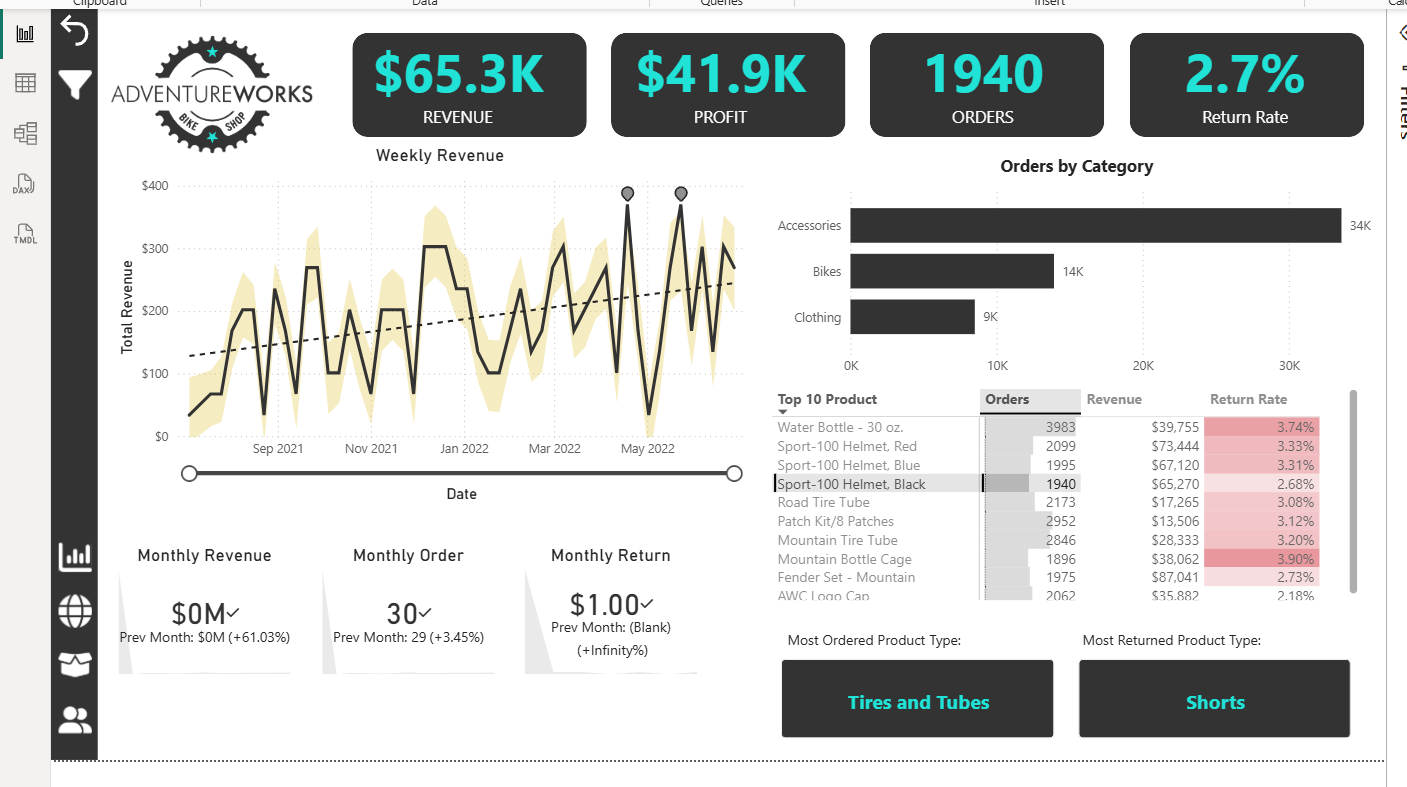

What the dashboard file says about the page in this screenshot:
{"tool":"powerbi","page":{"name":"Exec Dashboard","canvas":[1280,720],"ordinal":0},"visuals":[{"type":"card","fields":{"Values":["Measure Table.Total Revenue"]},"box":[255,0,270,138.8],"z":0,"group":"g2"},{"type":"image","title":"Logo","box":[20,22.5,268.8,118.8],"z":0},{"type":"shape","box":[288.8,22.5,225,100],"z":0,"group":"g1"},{"type":"group","id":"g1","title":"KPI Backgrounds","box":[288.8,22.5,970,100],"z":0,"group":"g3"},{"type":"shape","title":"Left Nav Background","box":[0,0,45,720],"z":1000},{"type":"group","id":"g2","title":"KPI Cards","box":[255,0,1025,138.8],"z":1000,"group":"g3"},{"type":"card","fields":{"Values":["Measure Table.Total Profit"]},"box":[506.7,0,270,138.8],"z":1000,"group":"g2"},{"type":"shape","box":[537.1,22.5,225,100],"z":1000,"group":"g1"},{"type":"group","id":"g3","title":"KPI","box":[255,0,1025,138.8],"z":2000},{"type":"card","fields":{"Values":["Measure Table.Total Orders"]},"box":[758.3,0,270,138.8],"z":2000,"group":"g2"},{"type":"shape","box":[785.5,22.5,225,100],"z":2000,"group":"g1"},{"type":"card","fields":{"Values":["Measure Table.Return Rate"]},"box":[1010,0,270,138.8],"z":3000,"group":"g2"},{"type":"shape","box":[1033.8,22.5,225,100],"z":3000,"group":"g1"},{"type":"lineChart","title":"Weekly Revenue","fields":{"Category":["Calendar Lookup.Date"],"Y":["Measure Table.Total Revenue"]},"box":[60,129.1,626.4,347.3],"z":3000},{"type":"kpi","title":"Monthly Revenue","fields":{"Goal":["Measure Table.Previous Month Profit"],"Indicator":["Measure Table.Total Revenue"],"TrendLine":["Calendar Lookup.Start of Month"]},"box":[60,512.5,175,130],"z":4000},{"type":"kpi","title":"Monthly Order","fields":{"Goal":["Measure Table.Previous Month Orders"],"Indicator":["Measure Table.Total Orders"],"TrendLine":["Calendar Lookup.Start of Month"]},"box":[255,512.5,175,130],"z":5000},{"type":"kpi","title":"Monthly Return","fields":{"Goal":["Measure Table.Previous Month Return"],"Indicator":["Measure Table.Total Returns"],"TrendLine":["Calendar Lookup.Start of Month"]},"box":[450,512.5,175,130],"z":6000},{"type":"clusteredBarChart","title":"Orders by Category","fields":{"Category":["Product Categories Lookup.CategoryName"],"Y":["Measure Table.Total Orders"]},"box":[686.2,138.8,593.8,221.2],"z":7000},{"type":"pivotTable","fields":{"Rows":["Product Lookup.ProductName"],"Values":["Measure Table.Total Orders","Measure Table.Total Revenue","Measure Table.Return Rate"]},"box":[720,360,513.6,211.8],"z":8000},{"type":"cardVisual","fields":{"Data":["Min(Product Subcategories Lookup.SubcategoryName)"]},"box":[687.5,611.2,286.2,100],"z":9000},{"type":"textbox","box":[701.2,591.2,232.5,38.8],"z":10000},{"type":"cardVisual","fields":{"Data":["Min(Product Subcategories Lookup.SubcategoryName)"]},"box":[973.8,611.2,285,100],"z":11000},{"type":"textbox","box":[983.8,591.2,232.5,38.8],"z":12000},{"type":"actionButton","box":[0,0,44.8,40.3],"z":13000},{"type":"actionButton","box":[0,506,46,40],"z":14000},{"type":"actionButton","box":[0,557.7,46,40],"z":15000},{"type":"actionButton","box":[0,609.3,46,40],"z":16000},{"type":"actionButton","box":[0,661,46,40],"z":17000},{"type":"actionButton","box":[0,53,46,40],"z":18000}]}

Visuals, with their boxes on the page's 1280x720 design canvas (x1, y1, x2, y2). These are canvas units, not pixel positions in the 1407x787 screenshot, which may show the page scaled, cropped or inside an application window:
card - Measure Table.Total Revenue: crop(255, 0, 525, 139)
"Logo" image: crop(20, 22, 289, 141)
shape: crop(289, 22, 514, 122)
"KPI Backgrounds" group: crop(289, 22, 1259, 122)
"Left Nav Background" shape: crop(0, 0, 45, 720)
"KPI Cards" group: crop(255, 0, 1280, 139)
card - Measure Table.Total Profit: crop(507, 0, 777, 139)
shape: crop(537, 22, 762, 122)
"KPI" group: crop(255, 0, 1280, 139)
card - Measure Table.Total Orders: crop(758, 0, 1028, 139)
shape: crop(786, 22, 1010, 122)
card - Measure Table.Return Rate: crop(1010, 0, 1280, 139)
shape: crop(1034, 22, 1259, 122)
"Weekly Revenue" lineChart: crop(60, 129, 686, 476)
"Monthly Revenue" kpi: crop(60, 512, 235, 642)
"Monthly Order" kpi: crop(255, 512, 430, 642)
"Monthly Return" kpi: crop(450, 512, 625, 642)
"Orders by Category" clusteredBarChart: crop(686, 139, 1280, 360)
pivotTable - Product Lookup.ProductName x Measure Table.Total Orders: crop(720, 360, 1234, 572)
cardVisual - Min(Product Subcategories Lookup.SubcategoryName): crop(688, 611, 974, 711)
textbox: crop(701, 591, 934, 630)
cardVisual - Min(Product Subcategories Lookup.SubcategoryName): crop(974, 611, 1259, 711)
textbox: crop(984, 591, 1216, 630)
actionButton: crop(0, 0, 45, 40)
actionButton: crop(0, 506, 46, 546)
actionButton: crop(0, 558, 46, 598)
actionButton: crop(0, 609, 46, 649)
actionButton: crop(0, 661, 46, 701)
actionButton: crop(0, 53, 46, 93)
